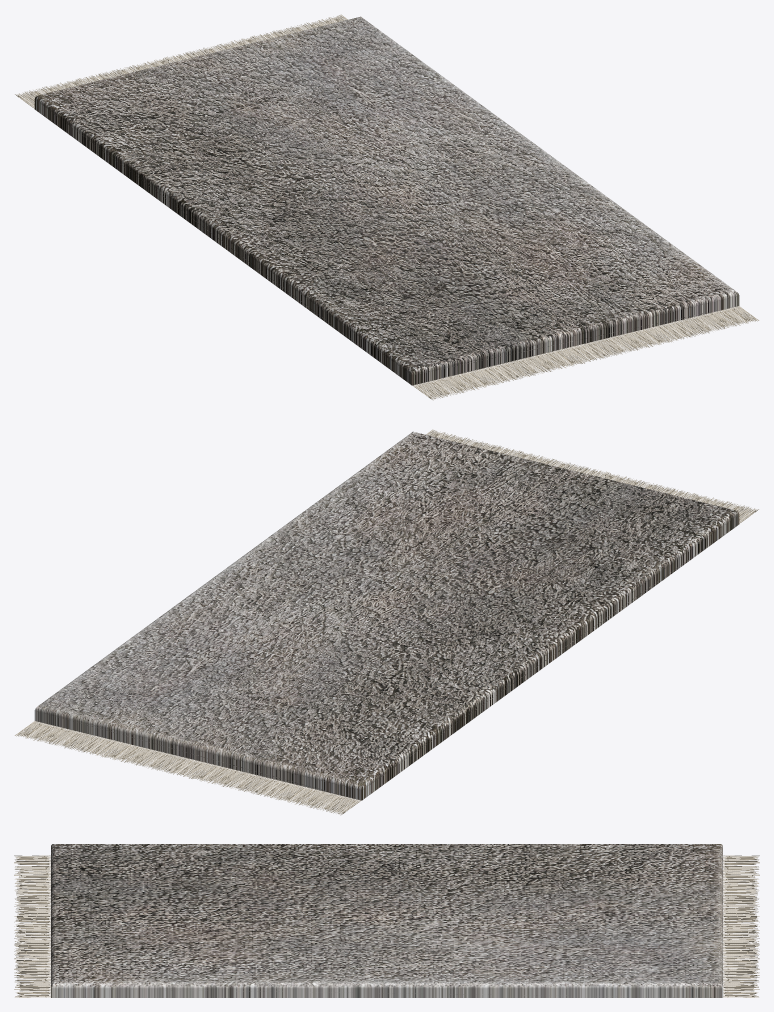
The picture shows the model from 3 angles, top to bottom: view 1: azimuth 30°, elevation 25°; view 2: azimuth 150°, elevation 25°; view 3: azimuth 270°, elevation 25°; orthographic projection. The views are drawn at different scales.
Visible parts, largest first — view 1: k04; view 2: k04; view 3: k04.
Boxes of the visible parts, bbox=[...] form: k04: bbox=[15, 14, 758, 400]; k04: bbox=[15, 429, 758, 815]; k04: bbox=[14, 844, 759, 997].
Size of the model in its own units: 0.6 by 0.0265 by 1.33.
3 materials, 2 textured.
